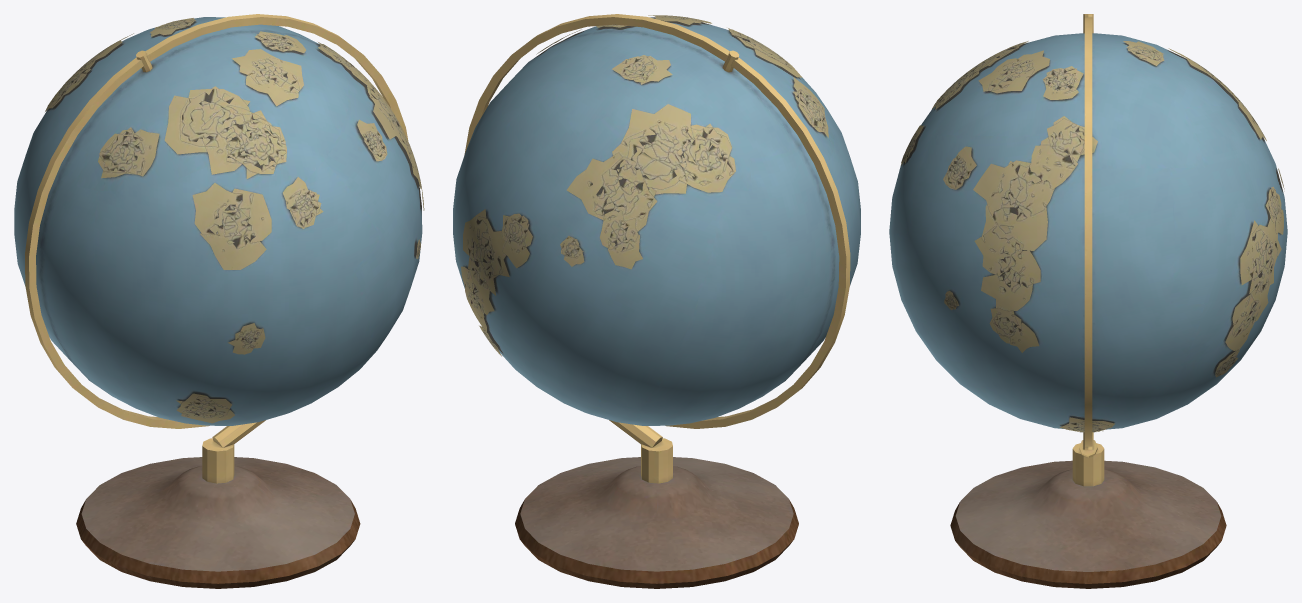
The model's file is globo_terrestre.glb.
3 renders of one model, left to right at view 1: azimuth 30°, elevation 25°; view 2: azimuth 150°, elevation 25°; view 3: azimuth 270°, elevation 25°, orthographic. The views are drawn at different scales.
Visible parts, largest first — view 1: globo; view 2: globo; view 3: globo.
Boxes of the visible parts, x1=… form: globo: x1=14, y1=14, x2=424, y2=588; globo: x1=453, y1=14, x2=860, y2=588; globo: x1=889, y1=14, x2=1287, y2=588.
Size of the model in its own units: 0.3234 by 0.4117 by 0.3.
Materials: 1 (1 with a texture image).
